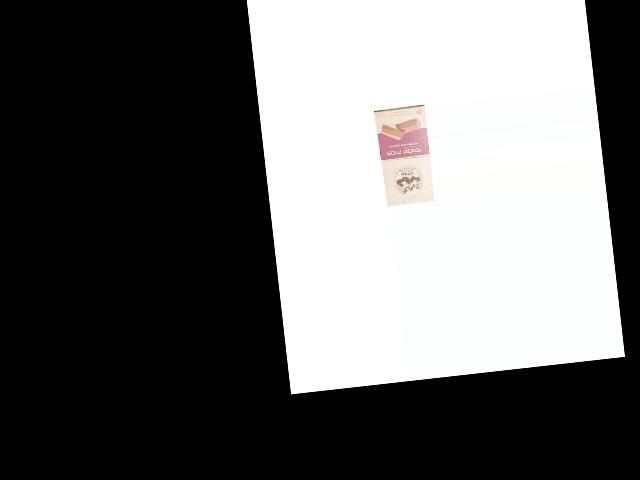chocolate: (372, 104, 433, 207)
